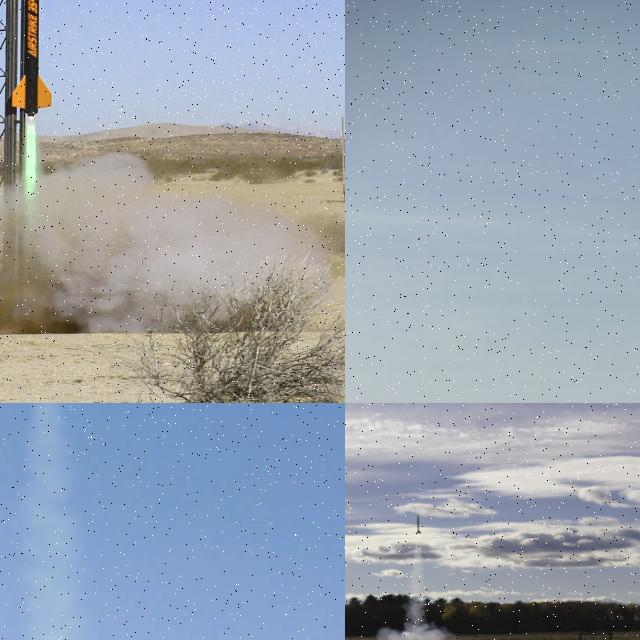Rocket: (9, 0, 54, 116), (415, 514, 422, 534)
